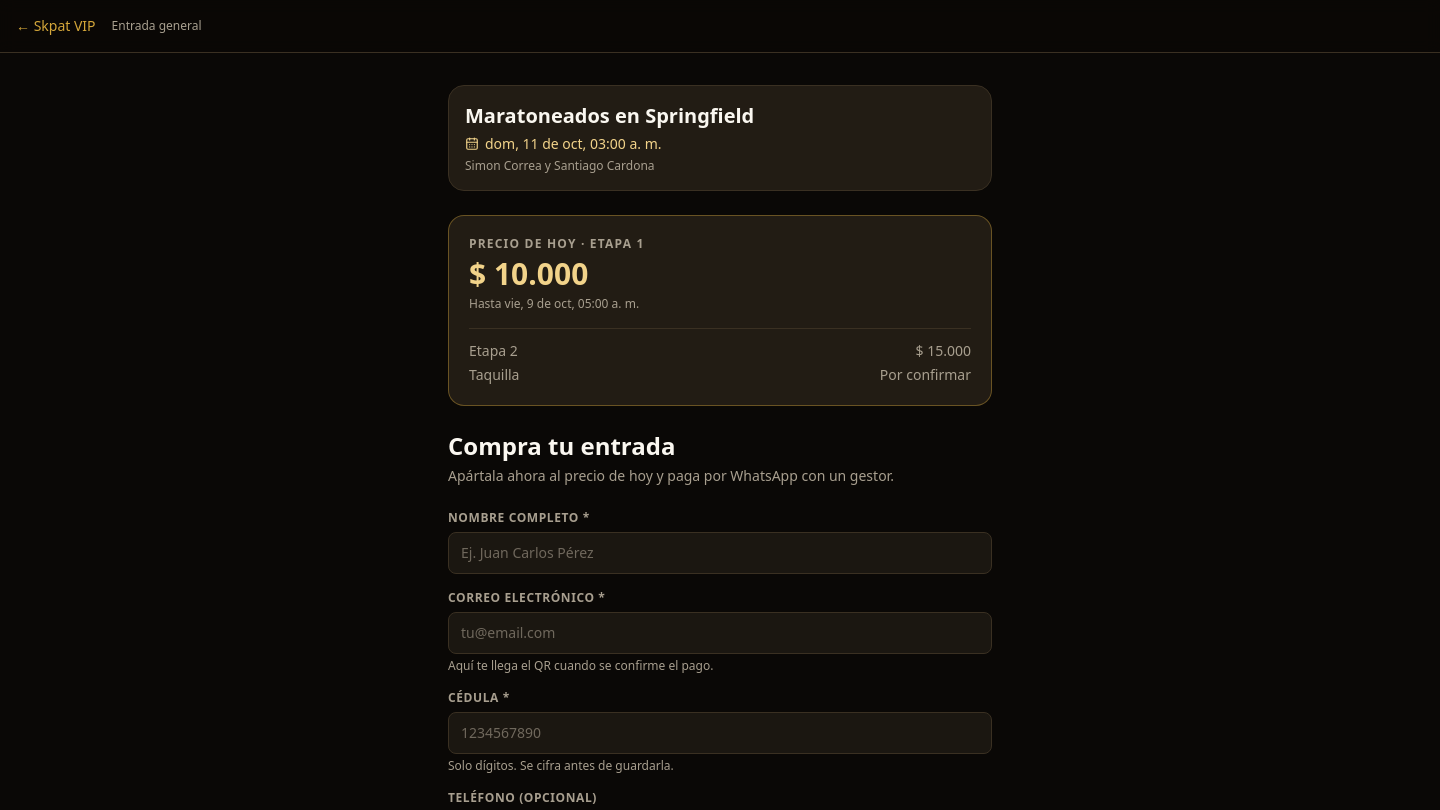
Test: TicketPurchasePage › después de comprar muestra "Pendiente de pago" con el botón de WhatsApp
Type "Ana Ruiz" into the field with placeholder "Ej. Juan Carlos Pérez" at (720, 553), box [448,532,992,574]
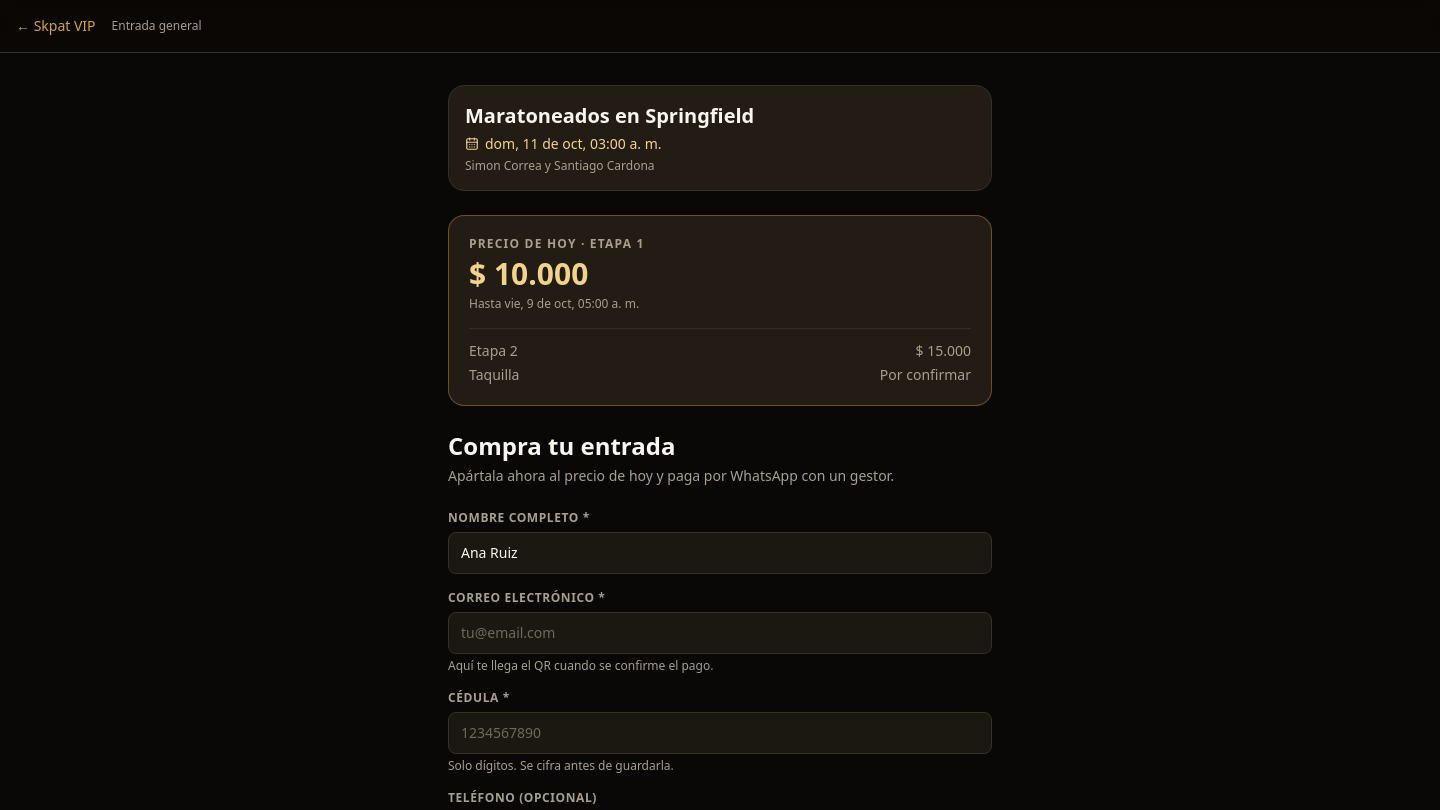
Type "ANA@example.com" into the field with placeholder "tu@email.com" at (720, 633), box [448,612,992,654]
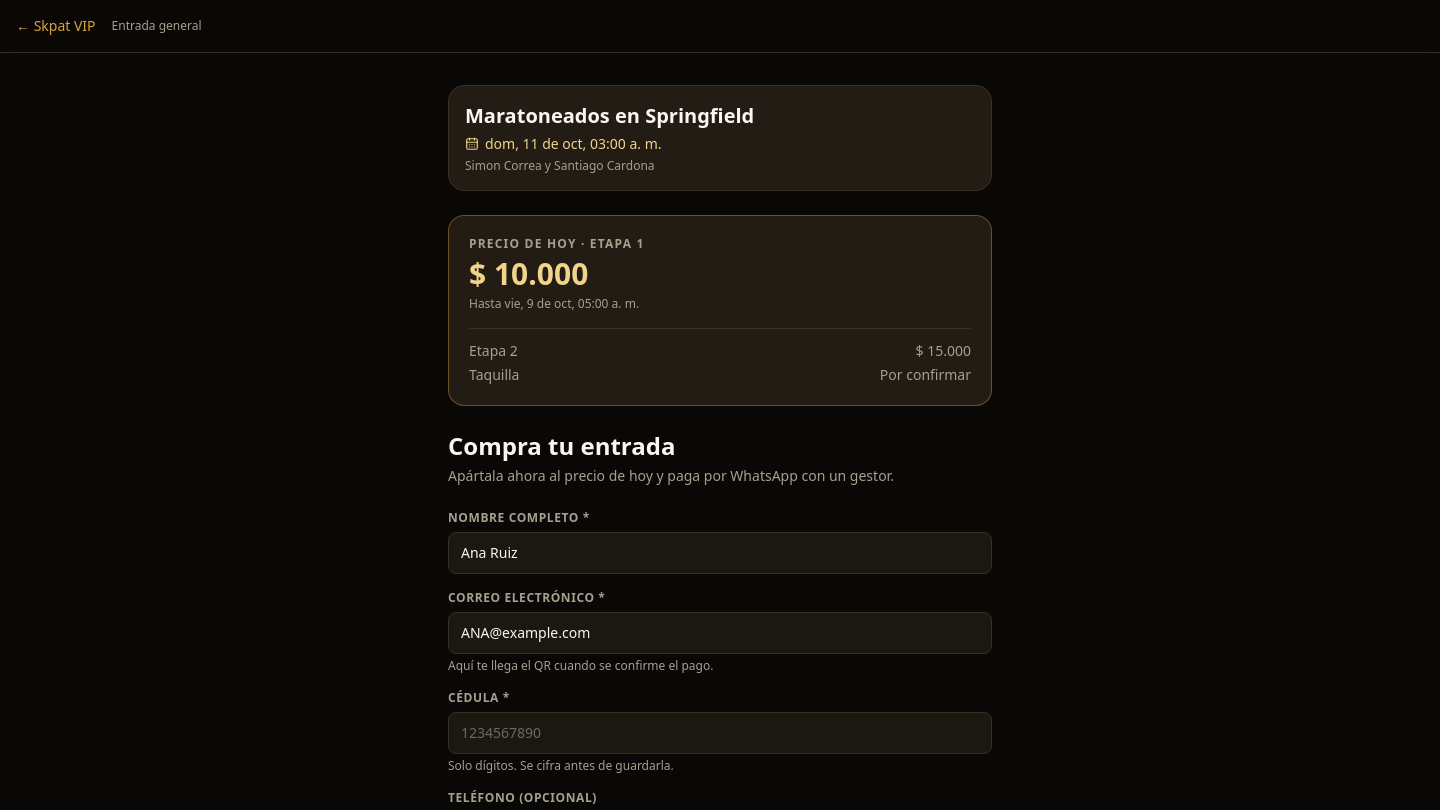
Type "1020304050" into the field with placeholder "1234567890" at (720, 733), box [448,712,992,754]
(page scrolled)
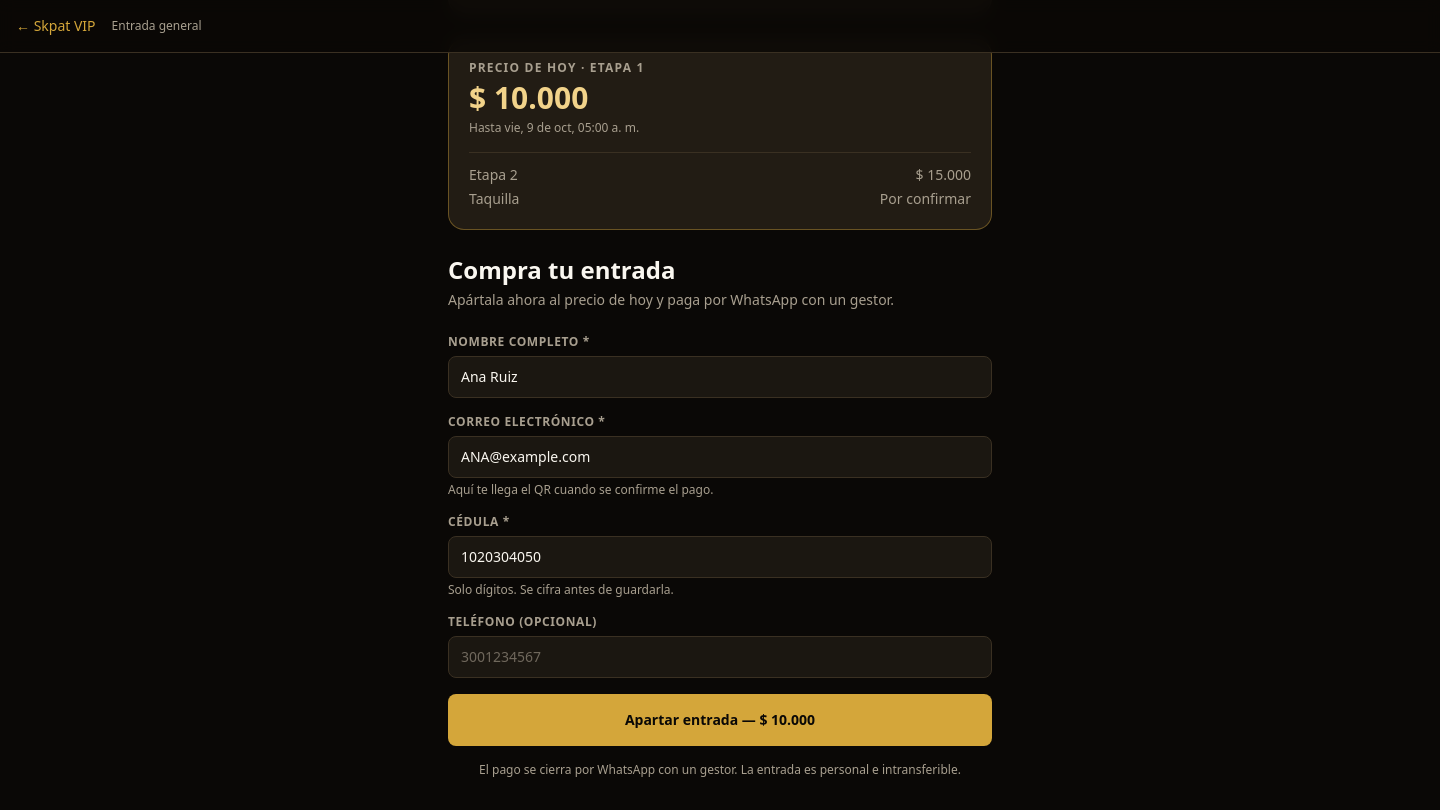
Click the button "Apartar entrada — $ 10.000" at (720, 720), box [448,694,992,746]
(page scrolled)
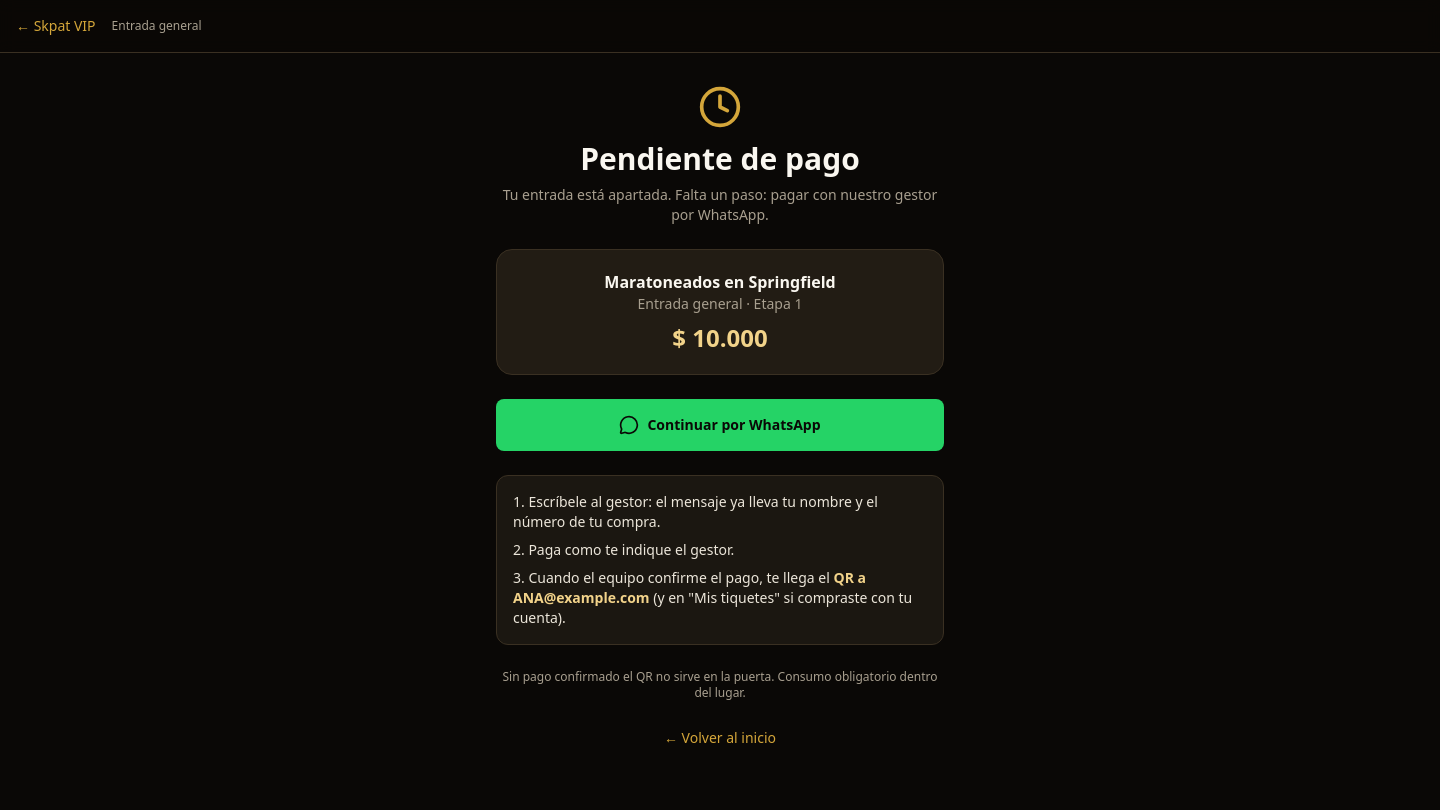
Expected: the heading "Pendiente de pago" is shown, [580,138,860,179]
Expected: the text "QR a ANA@example.com" is shown, [513,568,866,607]
